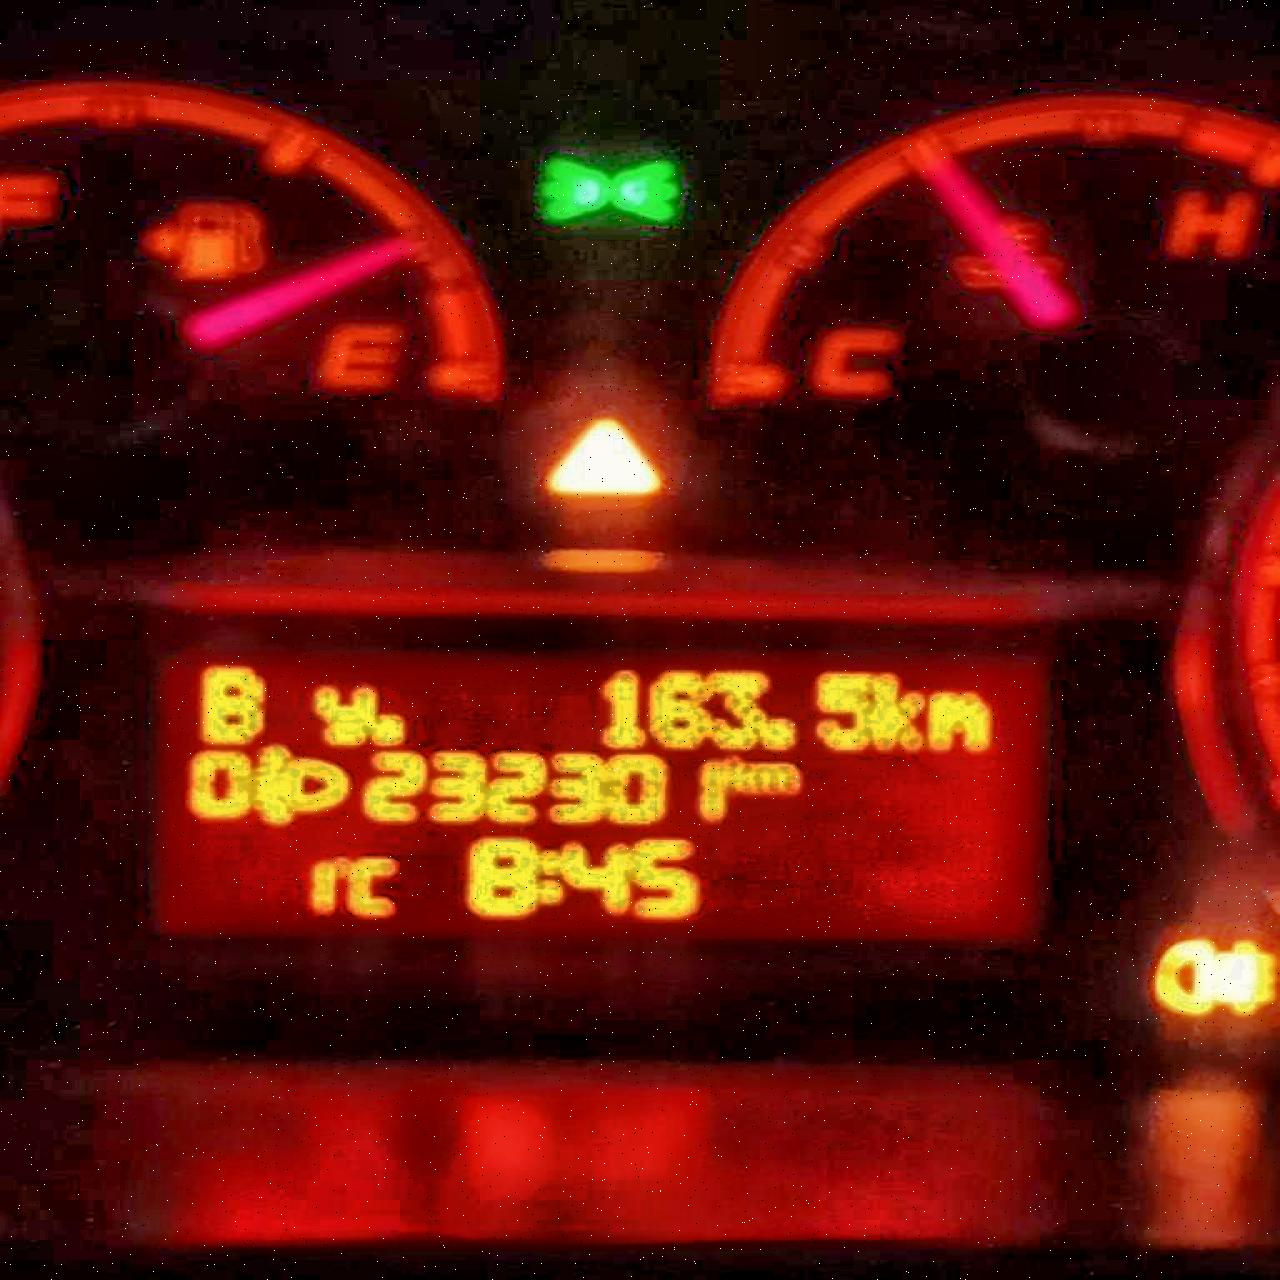-: (763, 709, 798, 755), (374, 707, 409, 744)
0: (189, 745, 253, 821), (605, 753, 668, 828)
1: (595, 665, 647, 751), (694, 756, 723, 826), (308, 858, 334, 920)
2: (363, 748, 424, 822), (489, 748, 544, 826)
3: (707, 667, 771, 751), (550, 749, 604, 828), (429, 745, 483, 823)
4: (561, 838, 628, 918)
5: (631, 835, 702, 919), (811, 669, 871, 751)
6: (648, 669, 707, 750)
8: (459, 832, 535, 920)
X: (197, 661, 264, 744), (927, 686, 993, 758), (871, 672, 921, 754), (313, 682, 374, 748), (347, 855, 403, 918), (758, 760, 805, 795), (537, 844, 560, 910), (727, 753, 758, 795)
odometer: (138, 631, 1060, 940)
